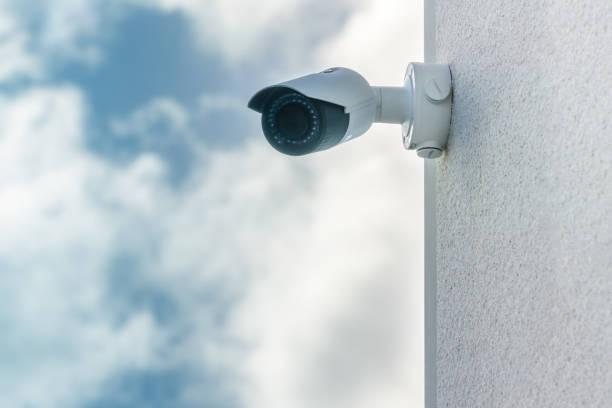camera: (222, 55, 395, 171)
